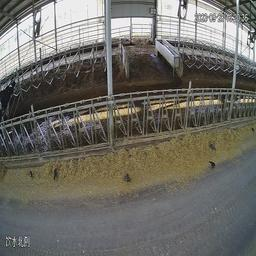cow: (1, 76, 21, 114)
